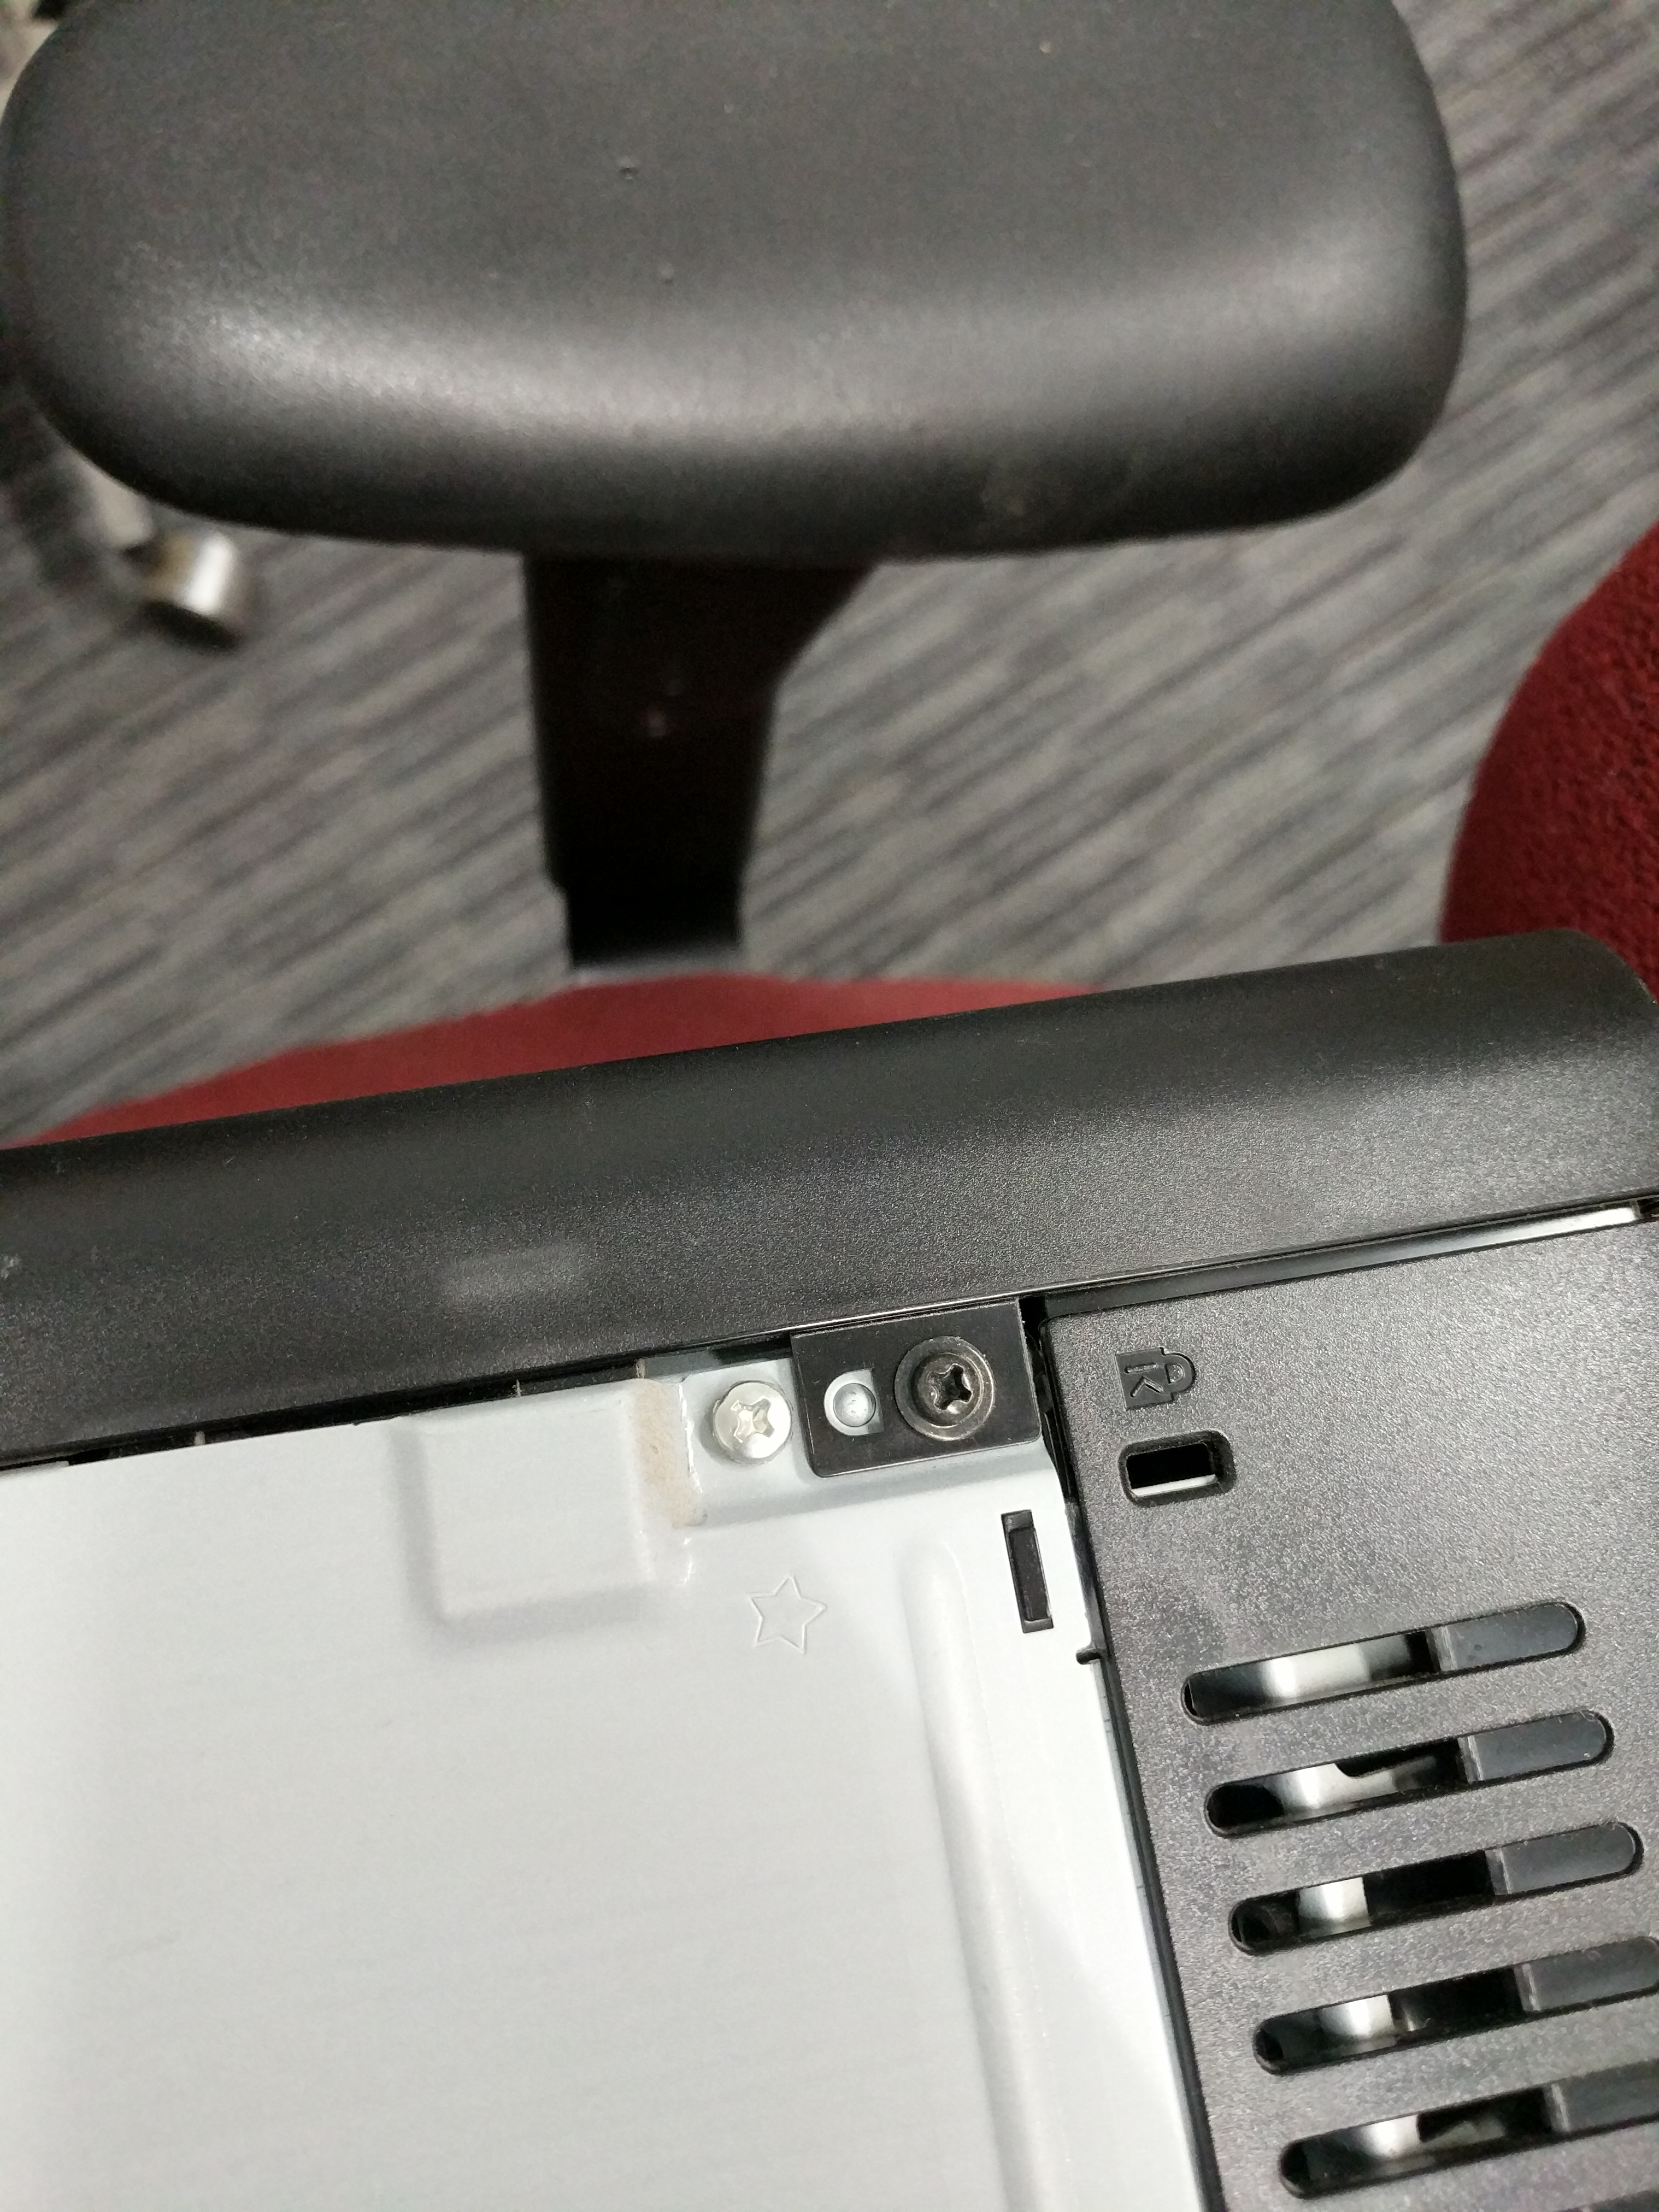cross_recessed_screw: (899, 1325, 992, 1421), (702, 1362, 798, 1454)
